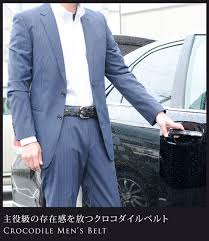F_M_suit jacket: (2, 5, 175, 144)
F_belt: (51, 100, 108, 123)
F_dress pants: (37, 119, 127, 212)
